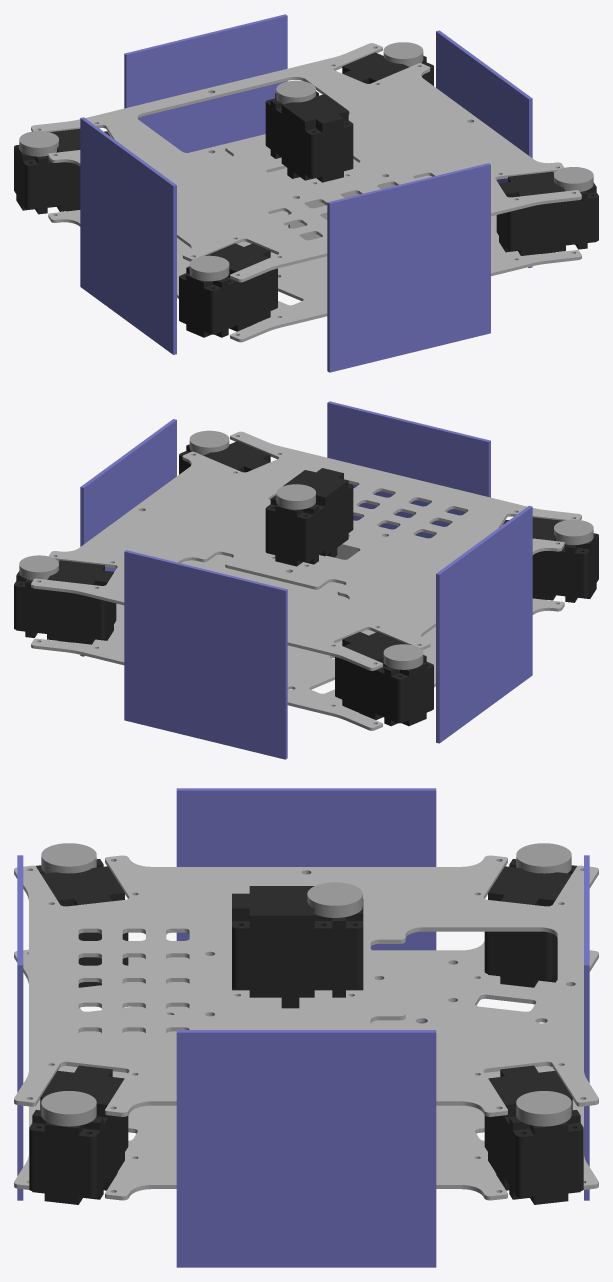
The model's file is chassis.dae.
3 renders of one model, top to bottom at view 1: azimuth 30°, elevation 25°; view 2: azimuth 150°, elevation 25°; view 3: azimuth 270°, elevation 25°, orthographic. The views are drawn at different scales.
Visible parts, largest first — view 1: chassis, servo_004, servo_001, servo_003, servo, servo_002; view 2: chassis, servo, servo_004, servo_002, servo_001, servo_003; view 3: chassis, servo_004, servo_002, servo_003, servo, servo_001.
Boxes of the visible parts, box(x1,y1,x2,y2) form: chassis: box(31, 14, 581, 372); servo_004: box(265, 80, 353, 182); servo_001: box(179, 243, 277, 337); servo_003: box(496, 167, 598, 255); servo: box(14, 129, 110, 214); servo_002: box(342, 42, 433, 114); chassis: box(31, 401, 581, 759); servo: box(335, 632, 433, 726); servo_004: box(265, 468, 353, 566); servo_002: box(14, 555, 116, 644); servo_001: box(502, 517, 598, 602); servo_003: box(179, 430, 270, 499); chassis: box(14, 788, 598, 1267); servo_004: box(232, 882, 363, 1008); servo_002: box(484, 1065, 583, 1204); servo_003: box(29, 1065, 128, 1204); servo: box(484, 843, 576, 987); servo_001: box(36, 843, 128, 987).
Size of the model in its own units: 0.2248 by 0.2003 by 0.095.
